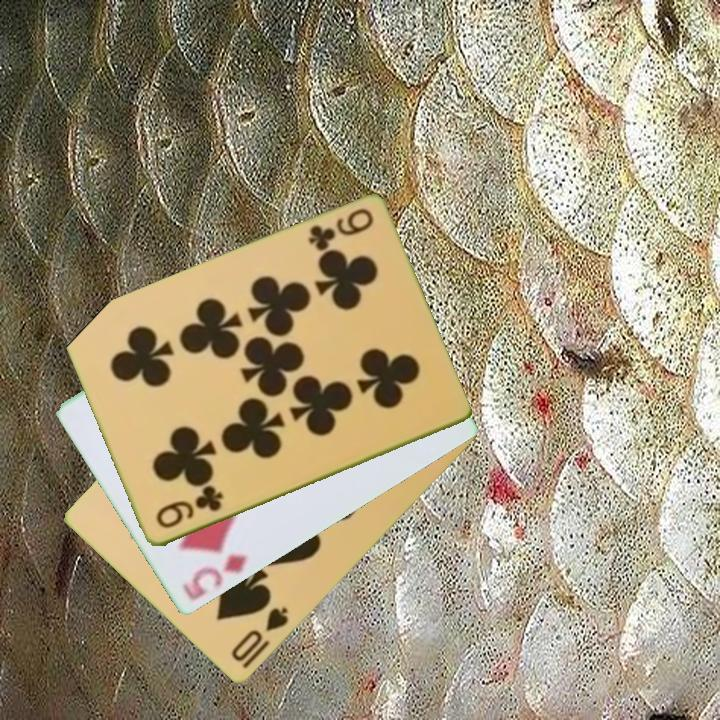10s: (227, 604, 292, 672)
5d: (178, 550, 250, 605)
9c: (304, 205, 376, 255), (152, 484, 226, 532)
